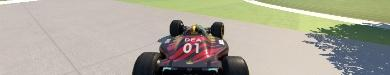Car: (131, 20, 249, 74)
Solid White and black: (242, 0, 389, 30)
curve: (0, 0, 389, 74)
obstacles-Borders: (0, 0, 38, 6)
